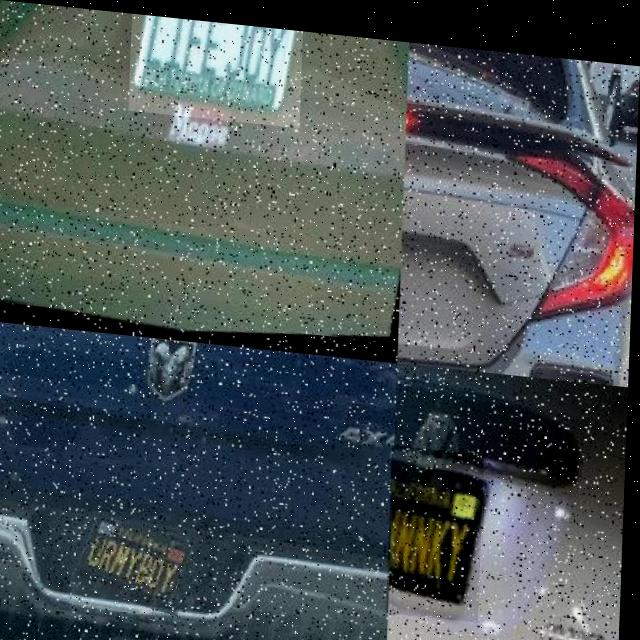LicensePlate: (129, 11, 303, 122), (390, 436, 487, 612), (76, 509, 199, 610)
